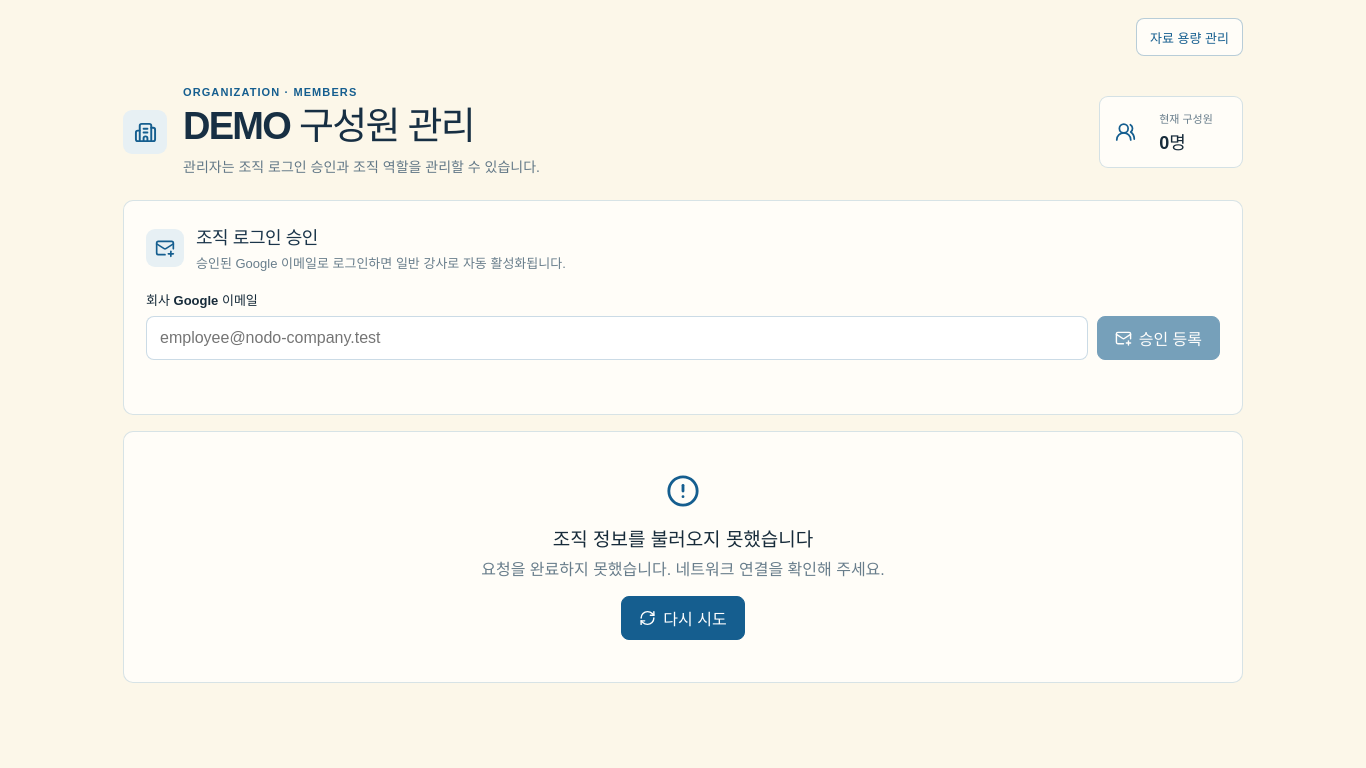
Scenario: 조직 구성원 관리 화면 › 빈 목록과 불러오기 오류·재시도 상태를 제공한다
This screenshot has width=1366, height=768.
Expected: the heading "조직 정보를 불러오지 못했습니다" is shown, [553,529,813,550]
Click the button "다시 시도": [683, 618] box [621,596,745,640]
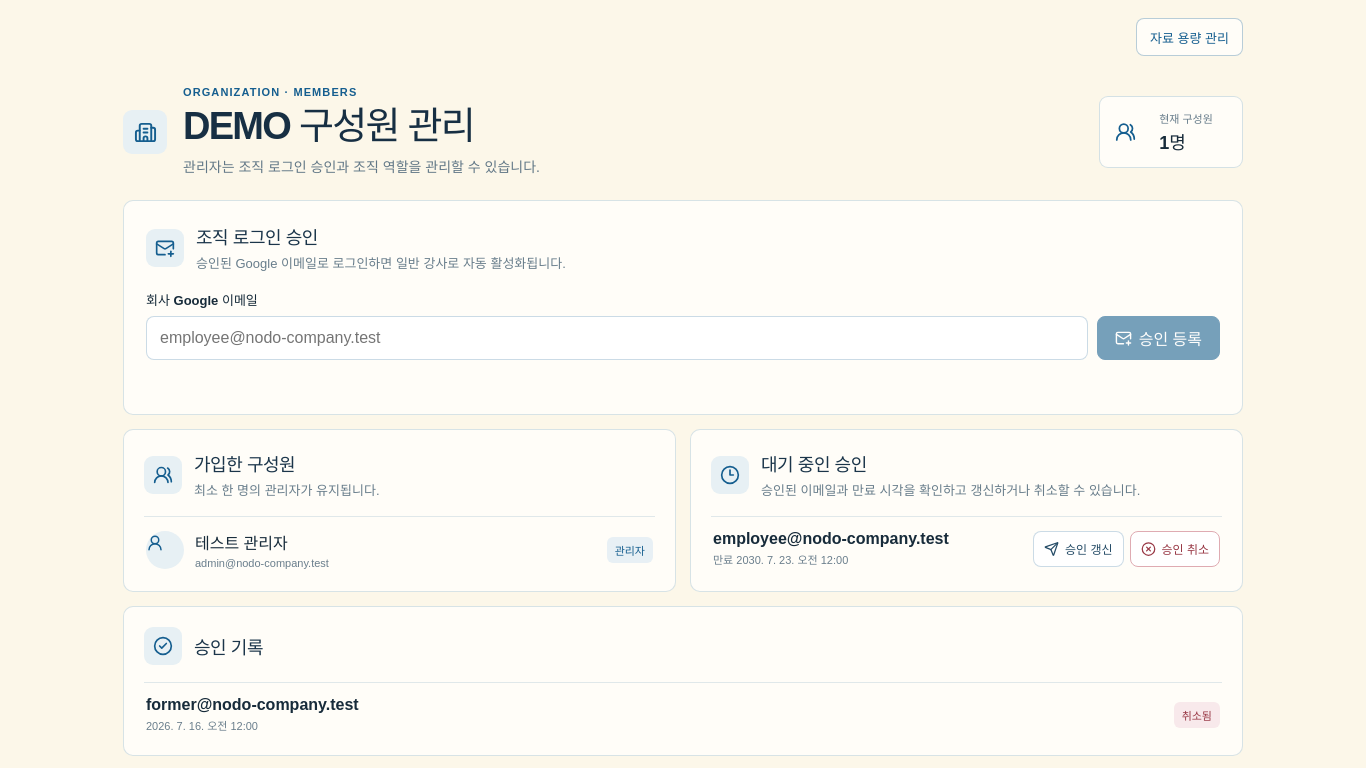
Now the heading "가입한 구성원" is shown, box [194,455,295,475]
